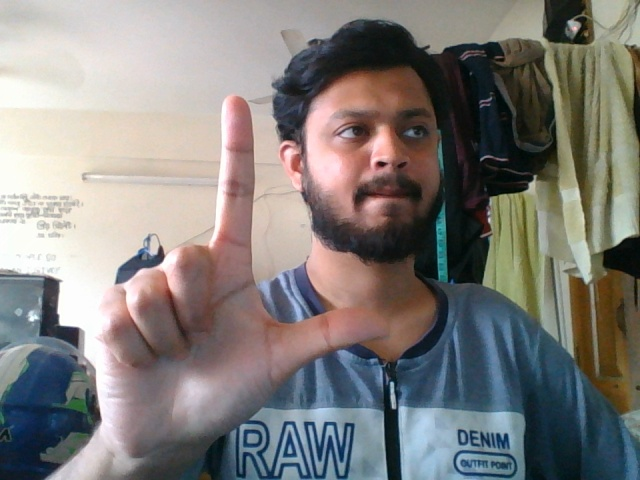la: (88, 95, 391, 480)
